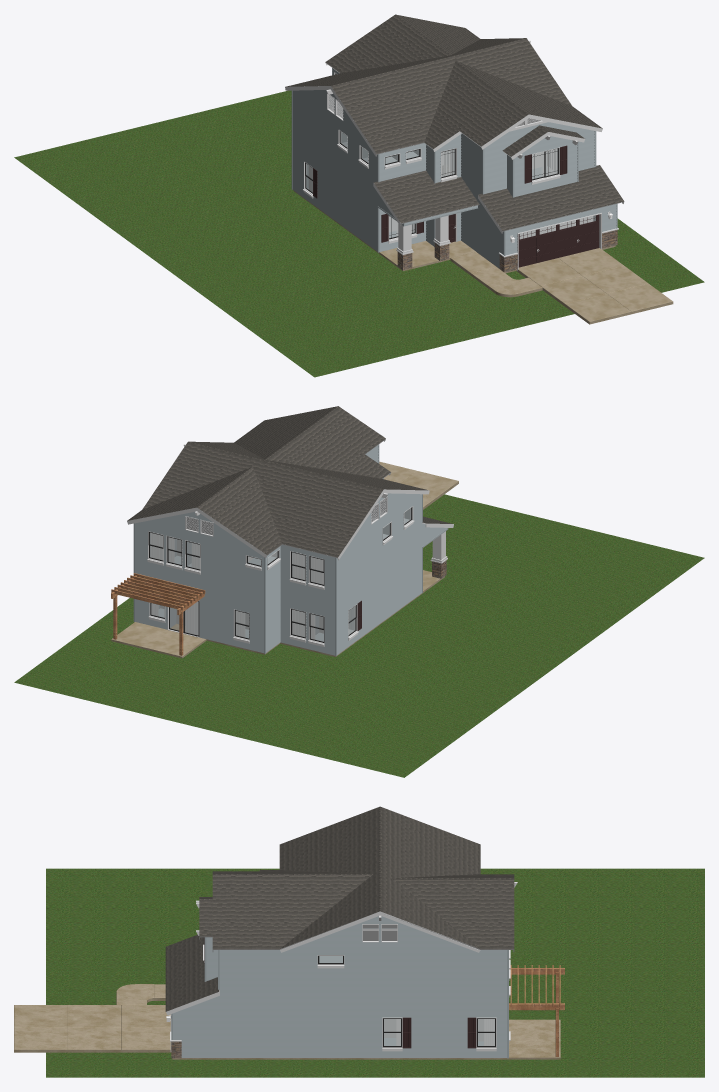
File: adm1.gltf
3 views of the same model, one above another, from view 1: azimuth 30°, elevation 25°; view 2: azimuth 150°, elevation 25°; view 3: azimuth 270°, elevation 25° (orthographic). The views are drawn at different scales.
Parts seen in each view (by area): view 1: house_7_ 2, ground 2; view 2: ground 2, house_7_ 2; view 3: house_7_ 2, ground 2.
Boxes of the visible parts, left/top/right/bottom form: house_7_ 2: left=285, top=14, right=673, bottom=324; ground 2: left=14, top=90, right=704, bottom=377; ground 2: left=14, top=494, right=704, bottom=777; house_7_ 2: left=111, top=406, right=458, bottom=658; house_7_ 2: left=14, top=806, right=564, bottom=1059; ground 2: left=46, top=868, right=704, bottom=1077.
Bounding box in the file's own units: 22.5 × 7.65 × 31.45.
12 materials, 5 textured.
